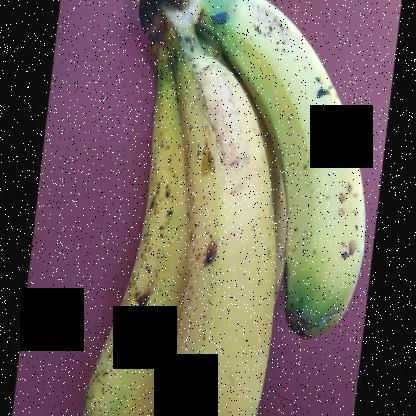ripe: (70, 15, 211, 415), (237, 1, 372, 338), (156, 61, 282, 415)
